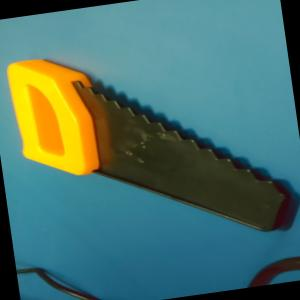serrote: (2, 27, 294, 266)
